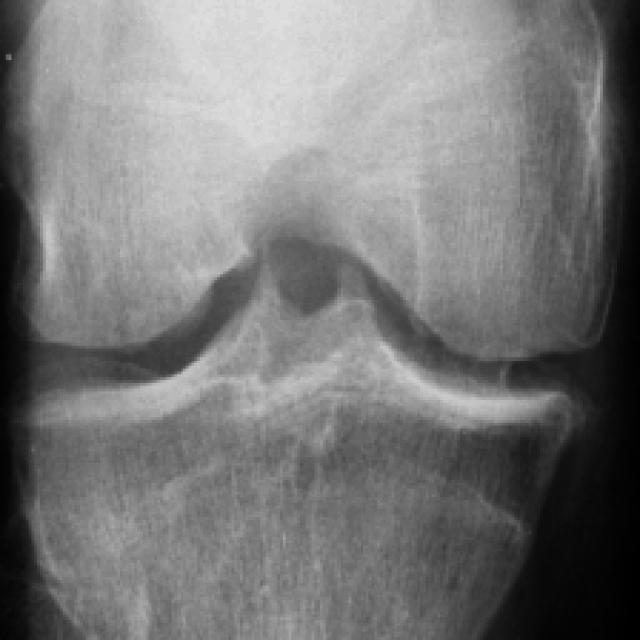femur: (11, 0, 613, 362)
tibia: (28, 243, 570, 637)
